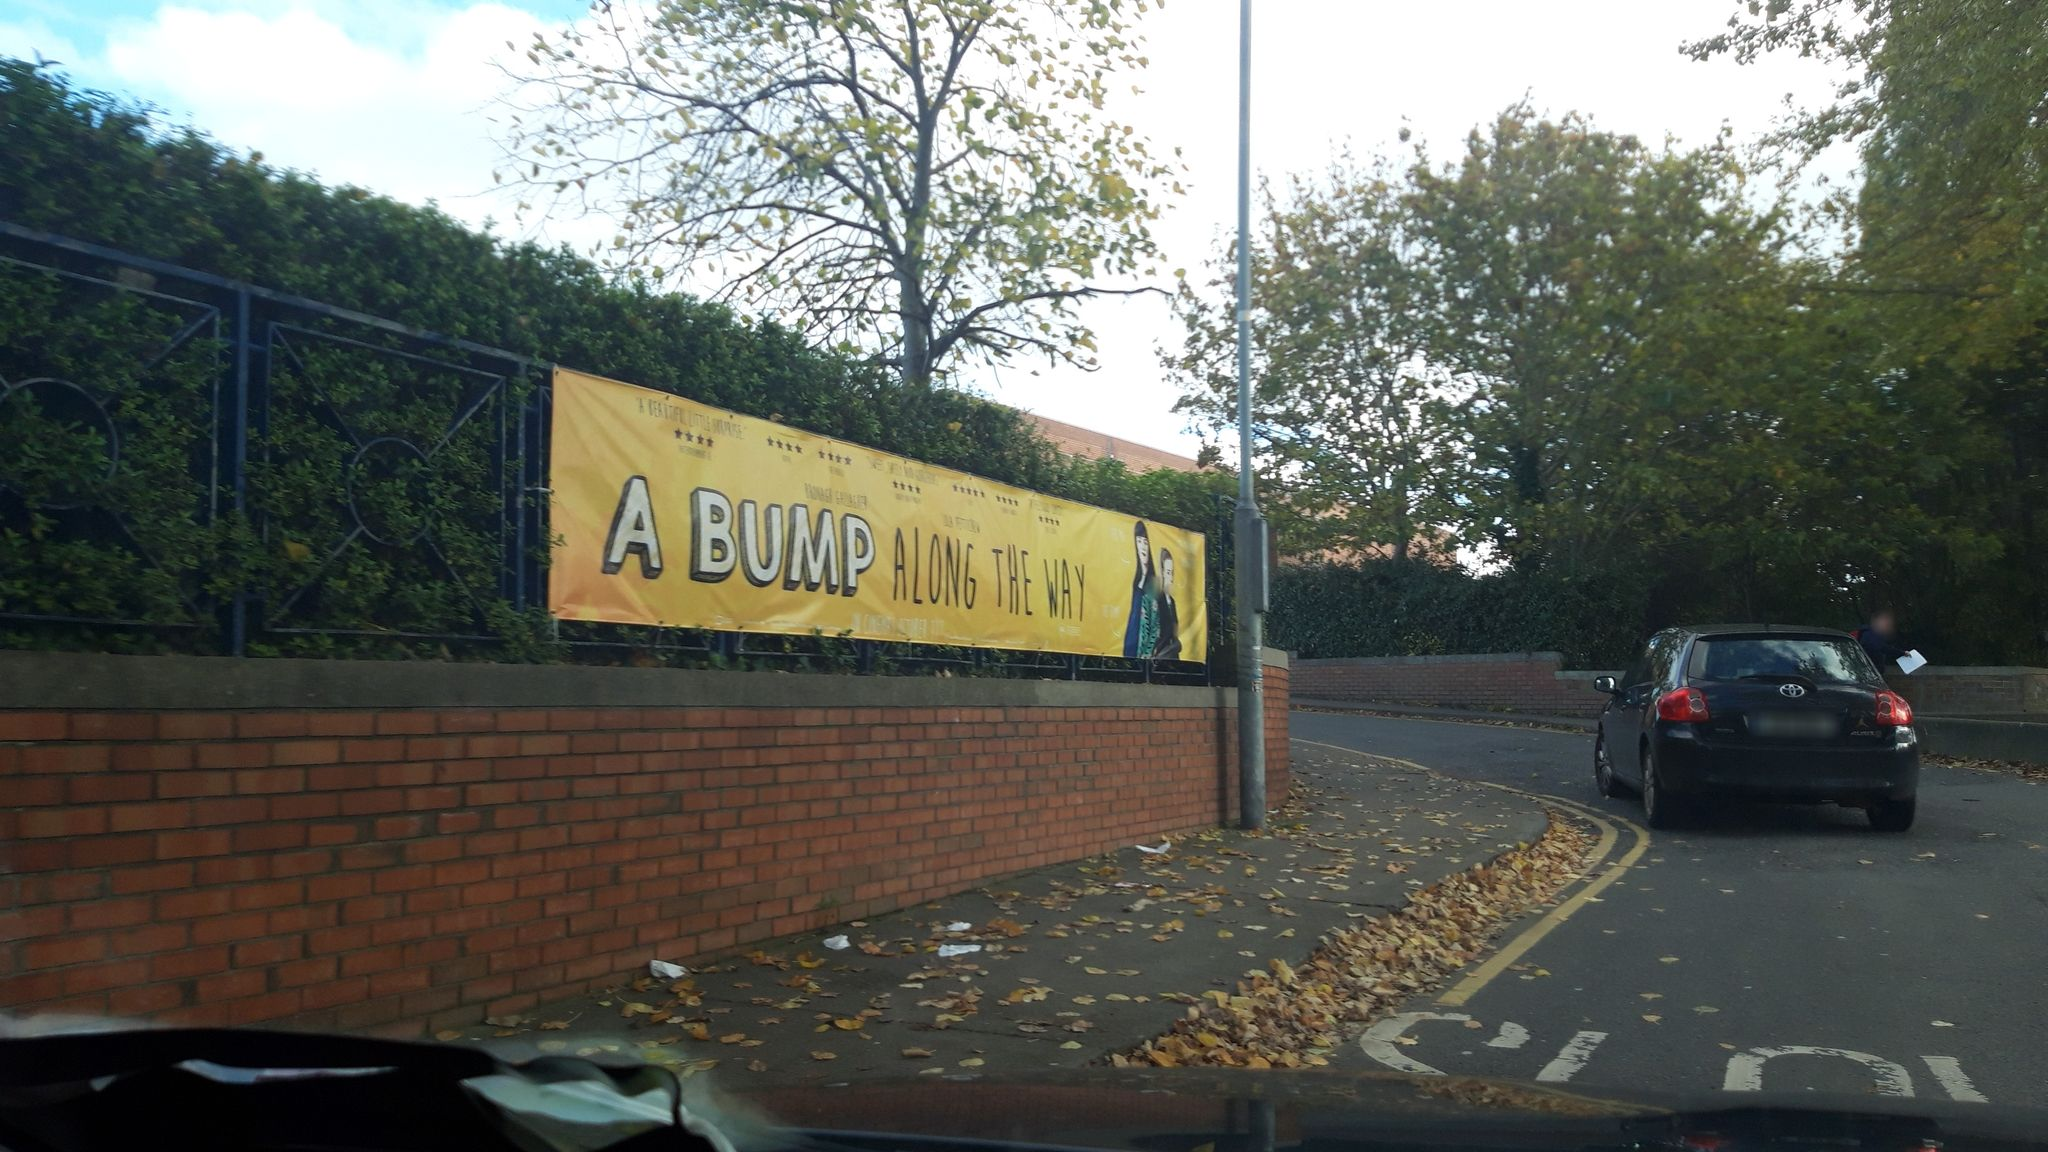vinyl banner: (530, 329, 1232, 708)
